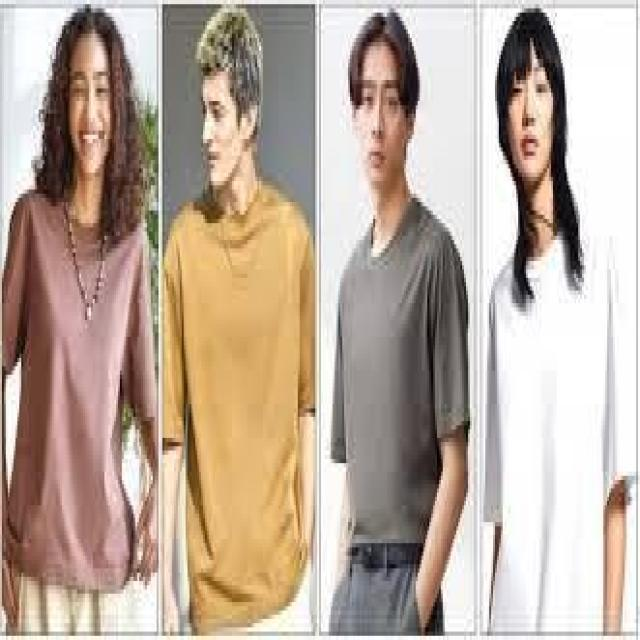Tshirt: (162, 172, 312, 614), (487, 227, 640, 640), (0, 181, 151, 585), (330, 198, 474, 556)
